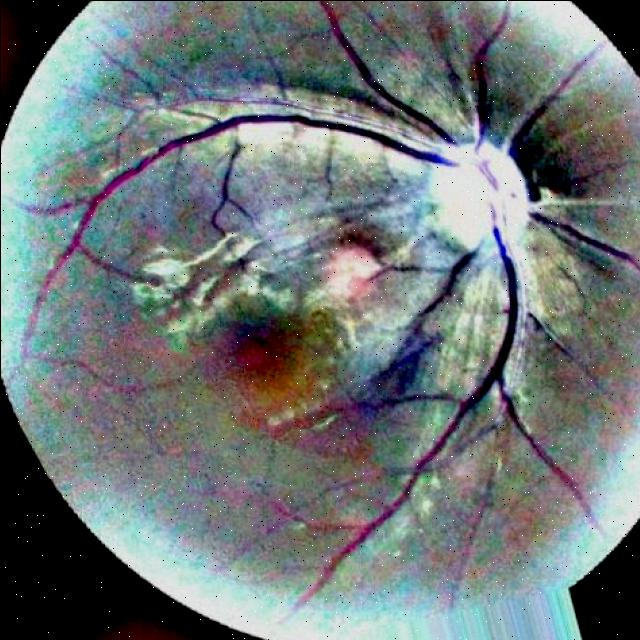Macula: (219, 320, 301, 385)
Nerves: (27, 101, 501, 332), (302, 207, 537, 598), (297, 270, 517, 606), (319, 0, 454, 142), (508, 404, 593, 517), (529, 209, 640, 274), (475, 7, 506, 144), (319, 0, 371, 81)
Optic Disk: (423, 140, 541, 247)
